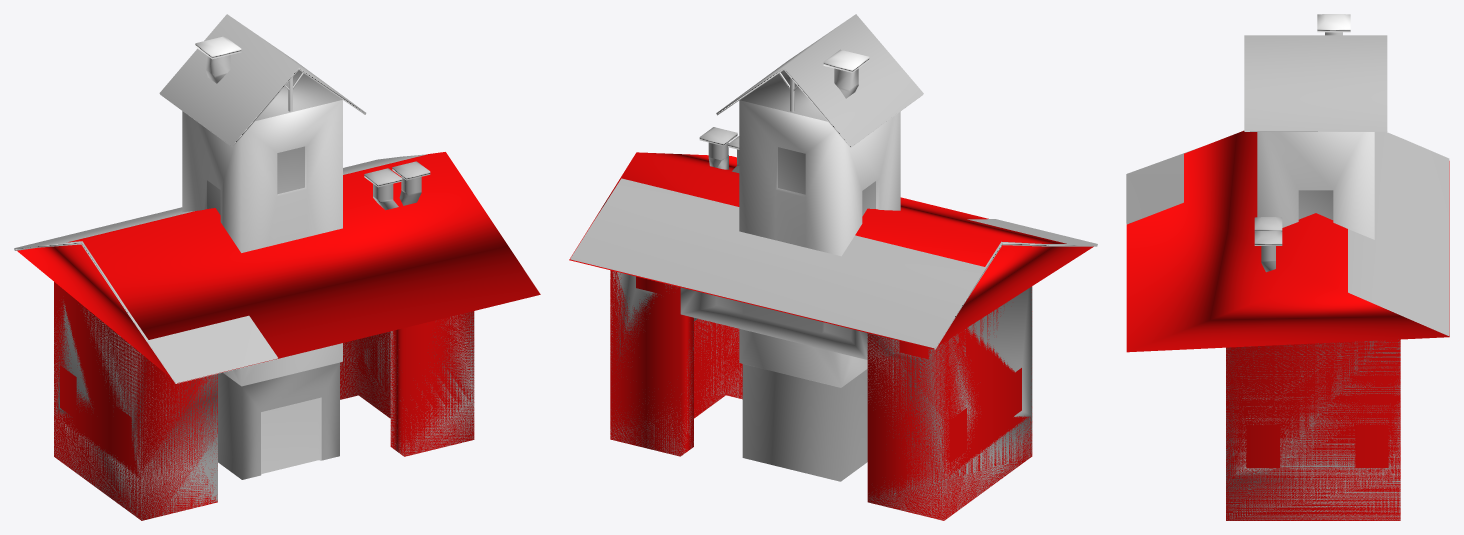
The model's file is sawmil_buildings.fbx.
3 views of the same model, side by side, from view 1: azimuth 30°, elevation 25°; view 2: azimuth 150°, elevation 25°; view 3: azimuth 270°, elevation 25° (orthographic).
Parts seen in each view (by area): view 1: Mesh, Mesh_ncl1_2, Mesh_ncl1_1; view 2: Mesh_ncl1_1, Mesh, Mesh_ncl1_2; view 3: Mesh, Mesh_ncl1_1, Mesh_ncl1_2.
Boxes of the visible parts, left/top/right/bottom form: Mesh: left=17, top=152, right=540, bottom=520; Mesh_ncl1_2: left=159, top=14, right=366, bottom=479; Mesh_ncl1_1: left=14, top=154, right=474, bottom=519; Mesh_ncl1_1: left=570, top=127, right=1097, bottom=519; Mesh: left=569, top=152, right=1093, bottom=520; Mesh_ncl1_2: left=716, top=14, right=923, bottom=481; Mesh: left=1126, top=130, right=1449, bottom=520; Mesh_ncl1_1: left=1126, top=132, right=1449, bottom=520; Mesh_ncl1_2: left=1244, top=14, right=1387, bottom=239.
Size of the model in its own units: 1195 by 1279 by 923.
